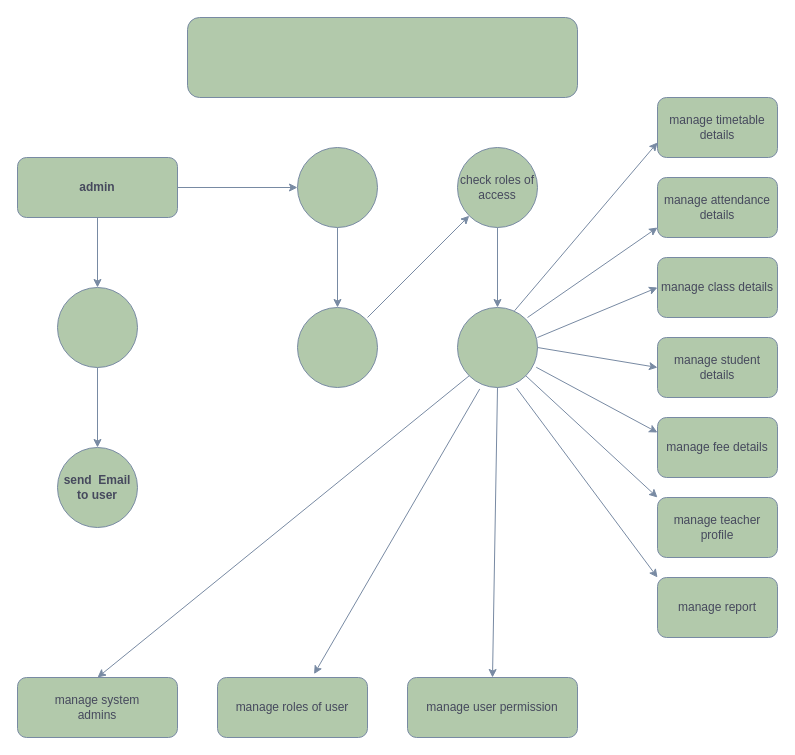
Image size: 795x755. Some labels were removed from this diagram. Here are the shapes that lost their labels. From the top down, the box of each, then its label:
(186, 16, 578, 98): student information system
(296, 146, 378, 228): login to system
(56, 286, 138, 368): forgot password
(296, 306, 378, 388): Chesch credentials
(456, 306, 538, 388): manage modules
